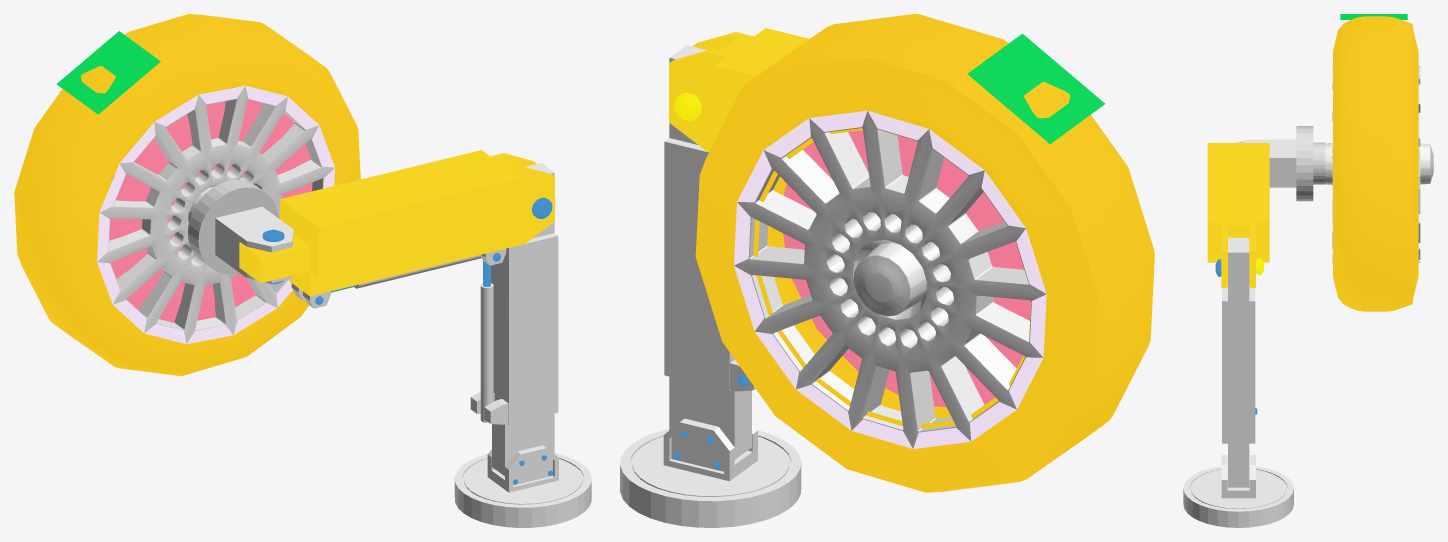
3 views of the same model, side by side, from view 1: azimuth 30°, elevation 25°; view 2: azimuth 150°, elevation 25°; view 3: azimuth 270°, elevation 25° (orthographic). The views are drawn at different scales.
Parts seen in each view (by area): view 1: ban_2, ban_2.003, Plane.001, Cube, ban_2.001, Plane, Circle, ban_2.061, Circle.001, Plane.005, Cylinder, Plane.003; view 2: ban_2, ban_2.002, Cube, Plane, Plane.001, Circle, ban_2.001, ban_2.061, Circle.012; view 3: ban_2, Cube, Plane.001, Plane, Circle, Circle.001, Plane.005, ban_2.002, ban_2.003.
Boxes of the visible parts, box(x1,y1,x2,y2) form: ban_2: box(14, 14, 360, 375); ban_2.003: box(97, 85, 334, 344); Plane.001: box(239, 150, 554, 296); Cube: box(491, 163, 558, 475); ban_2.001: box(98, 87, 312, 322); Plane: box(462, 445, 583, 504); Circle: box(454, 453, 591, 527); ban_2.061: box(56, 31, 160, 114); Circle.001: box(188, 179, 278, 274); Plane.005: box(215, 206, 293, 283); Cylinder: box(480, 283, 493, 422); Plane.003: box(470, 391, 508, 424); ban_2: box(695, 14, 1154, 492); ban_2.002: box(734, 110, 1046, 448); Cube: box(664, 45, 751, 459); Plane: box(630, 418, 791, 496); Plane.001: box(669, 28, 809, 152); Circle: box(620, 429, 801, 527); ban_2.001: box(783, 130, 1030, 407); ban_2.061: box(967, 33, 1104, 144); Circle.012: box(674, 92, 701, 120); ban_2: box(1333, 16, 1418, 311); Cube: box(1222, 237, 1255, 487); Plane.001: box(1207, 143, 1269, 287); Plane: box(1189, 455, 1287, 508); Circle: box(1183, 466, 1293, 527); Circle.001: box(1296, 126, 1325, 201); Plane.005: box(1234, 139, 1296, 187); ban_2.002: box(1418, 65, 1433, 262); ban_2.003: box(1325, 64, 1332, 263).
Bounding box in the file's own units: 22.62 × 21.68 × 13.01.
